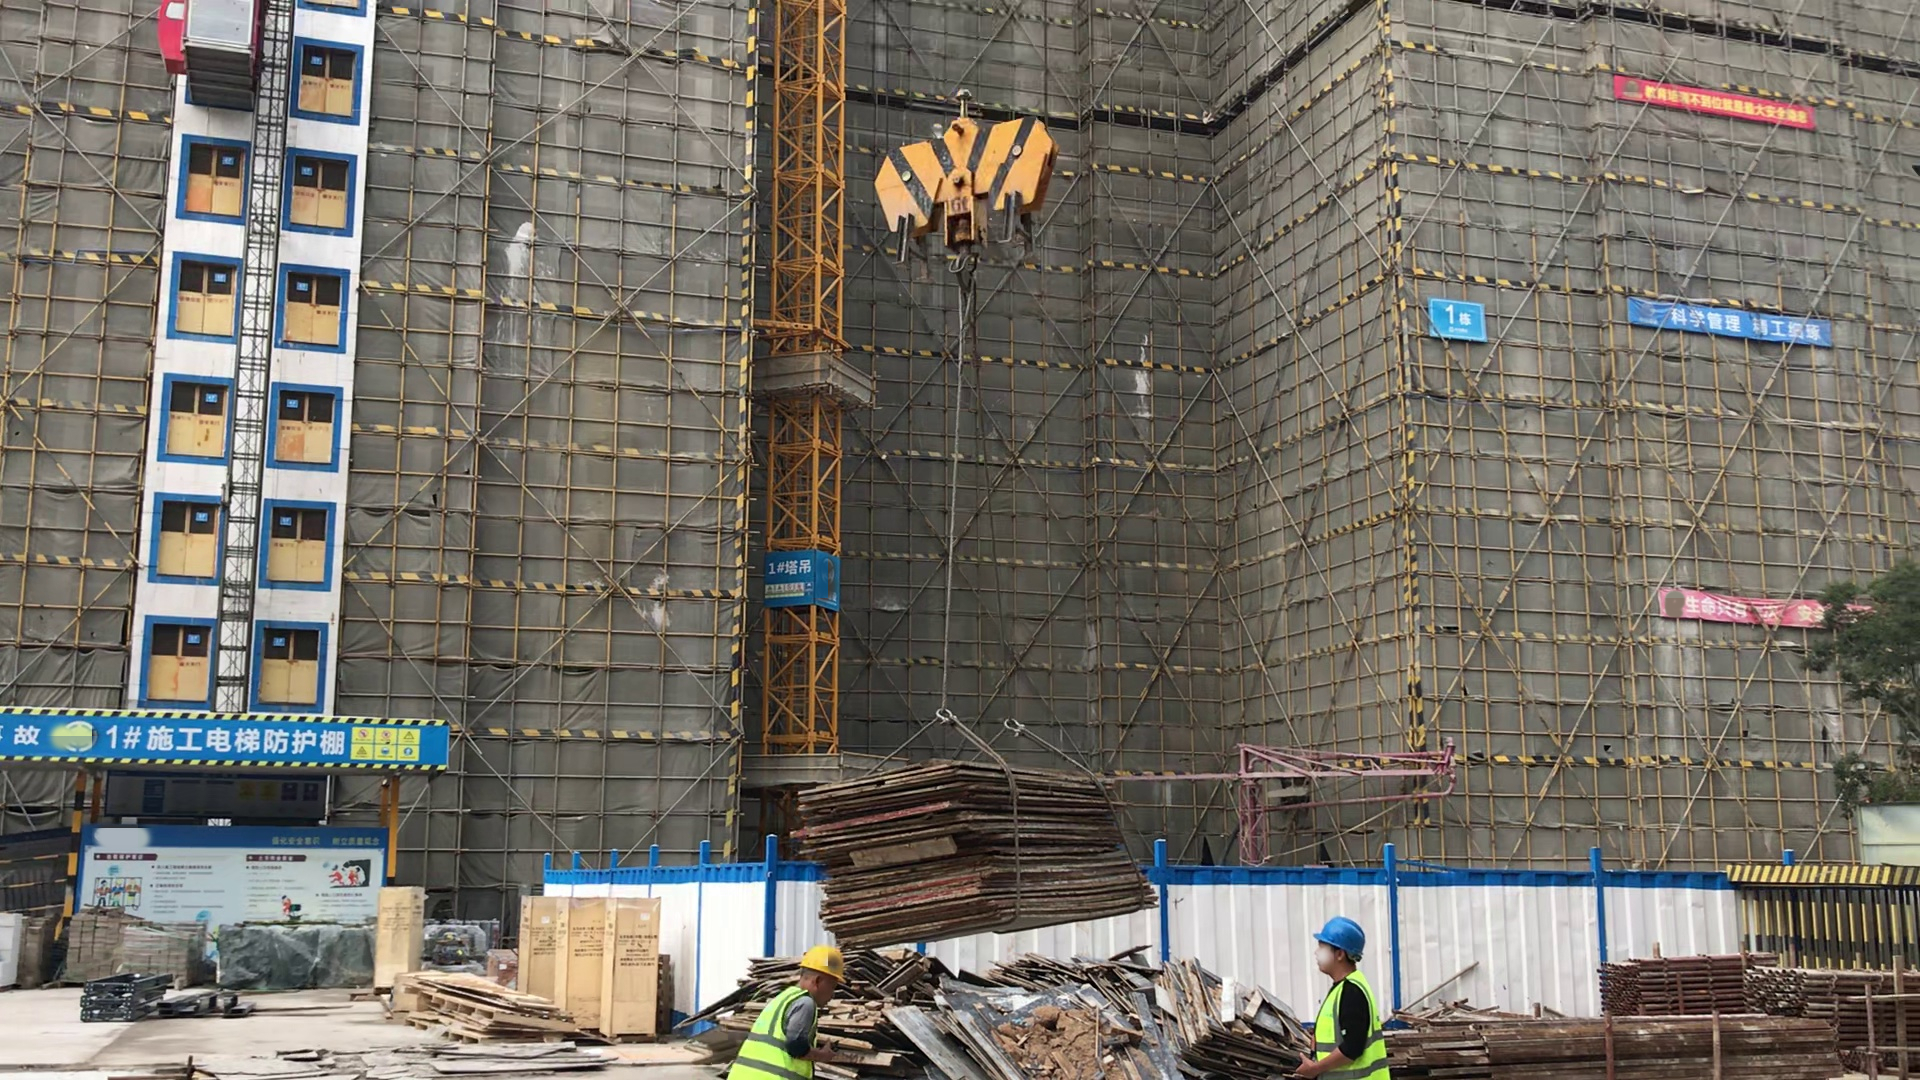board: (780, 768, 1163, 946)
helmet: (1316, 916, 1365, 957), (796, 944, 845, 980)
hook: (873, 116, 1062, 295)
person: (729, 939, 845, 1080), (1300, 916, 1395, 1080)
scaffold: (1606, 948, 1920, 1054)
slogan: (1634, 296, 1825, 346), (1670, 589, 1832, 628), (1641, 88, 1803, 124), (349, 724, 420, 762), (760, 582, 812, 600)
vest: (1314, 970, 1392, 1080), (731, 986, 814, 1080)
